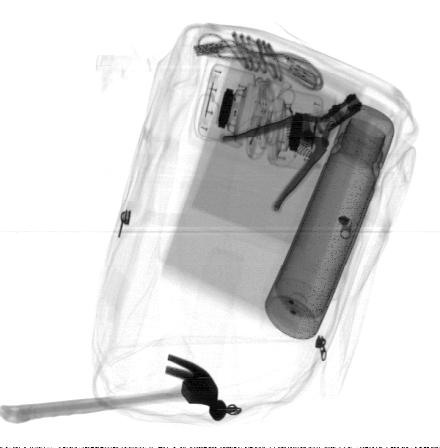Hammer: (0, 355, 227, 423)
Pliers: (222, 93, 363, 212)
